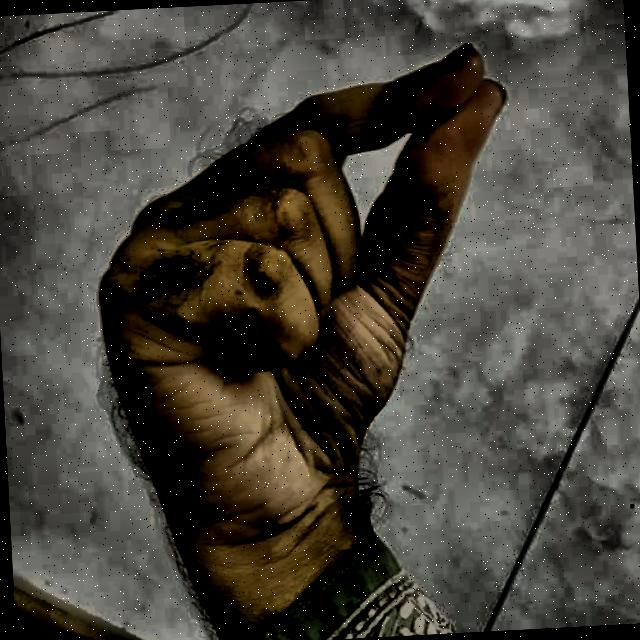Anusshar: (86, 32, 558, 618)
